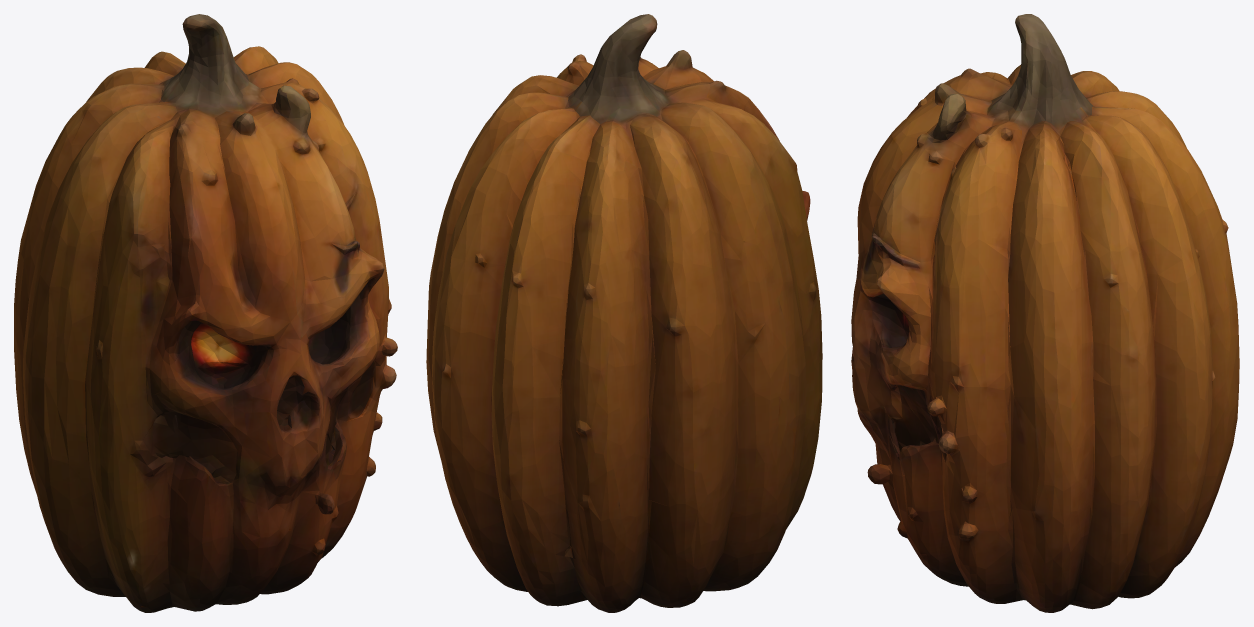
The model's file is pumpkin_jackolantern_skull.glb.
The picture shows the model from 3 angles, left to right: view 1: azimuth 30°, elevation 25°; view 2: azimuth 150°, elevation 25°; view 3: azimuth 270°, elevation 25°; orthographic projection. The views are drawn at different scales.
Visible parts, largest first — view 1: geometry_0; view 2: geometry_0; view 3: geometry_0.
Part boxes in pixels (x1=…): geometry_0: x1=14, y1=14, x2=397, y2=612; geometry_0: x1=426, y1=14, x2=822, y2=612; geometry_0: x1=851, y1=14, x2=1239, y2=612.
Size of the model in its own units: 0.6426 by 0.9974 by 0.6411.
Materials: 1 (1 with a texture image).
